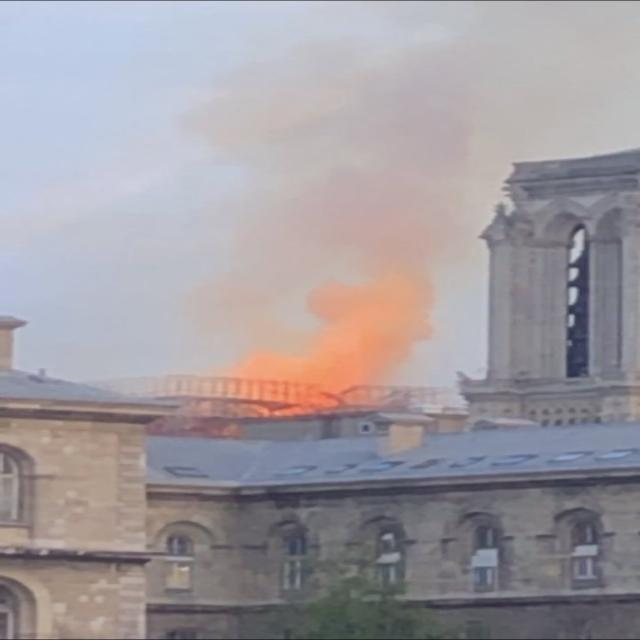Smoke: (169, 2, 640, 424)
